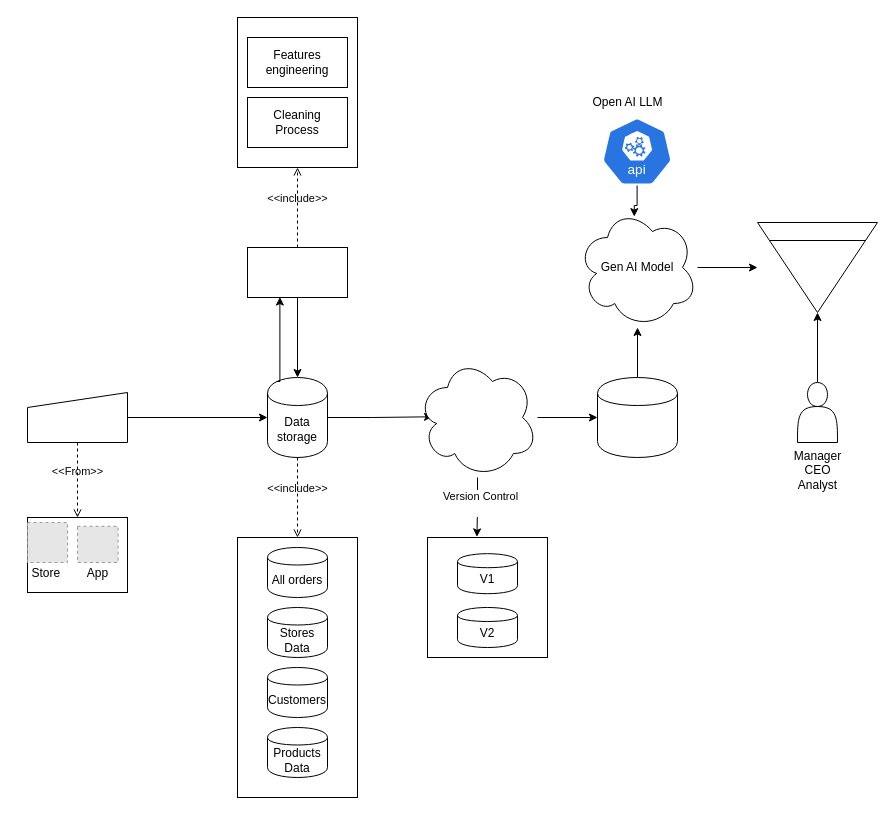
The diagram is 895 pixels wide and 815 high, and some of its shapes have lost their labels. Grey dashed boxes stand in for pictures. Each missing label, with the centre of its shape:
Data preparation: point 297,272
Machine Learning Model: point 477,417
New Order: point 77,417
Predictions Storage: point 637,417
Reports Power BI ...: point 817,267
